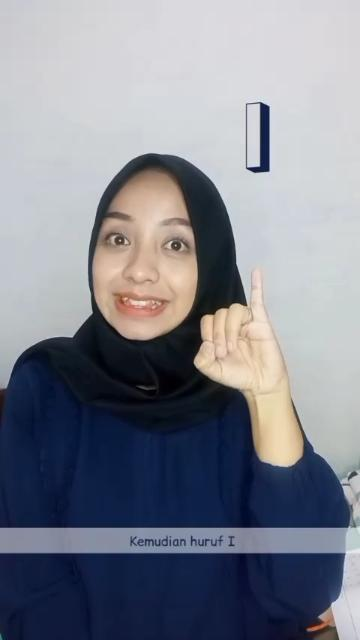I: (192, 266, 286, 396)
